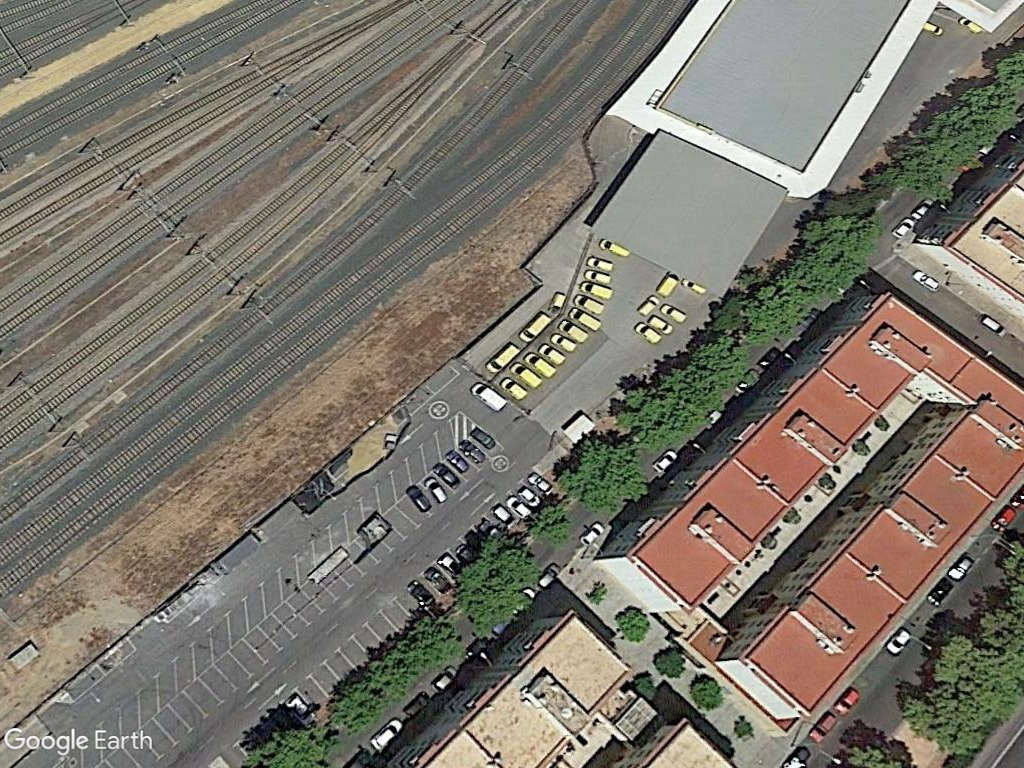car: (973, 307, 1012, 340), (908, 267, 947, 294)
van: (466, 378, 507, 413)
